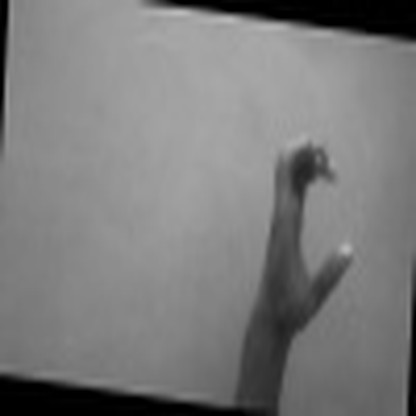c: (257, 118, 357, 321)
